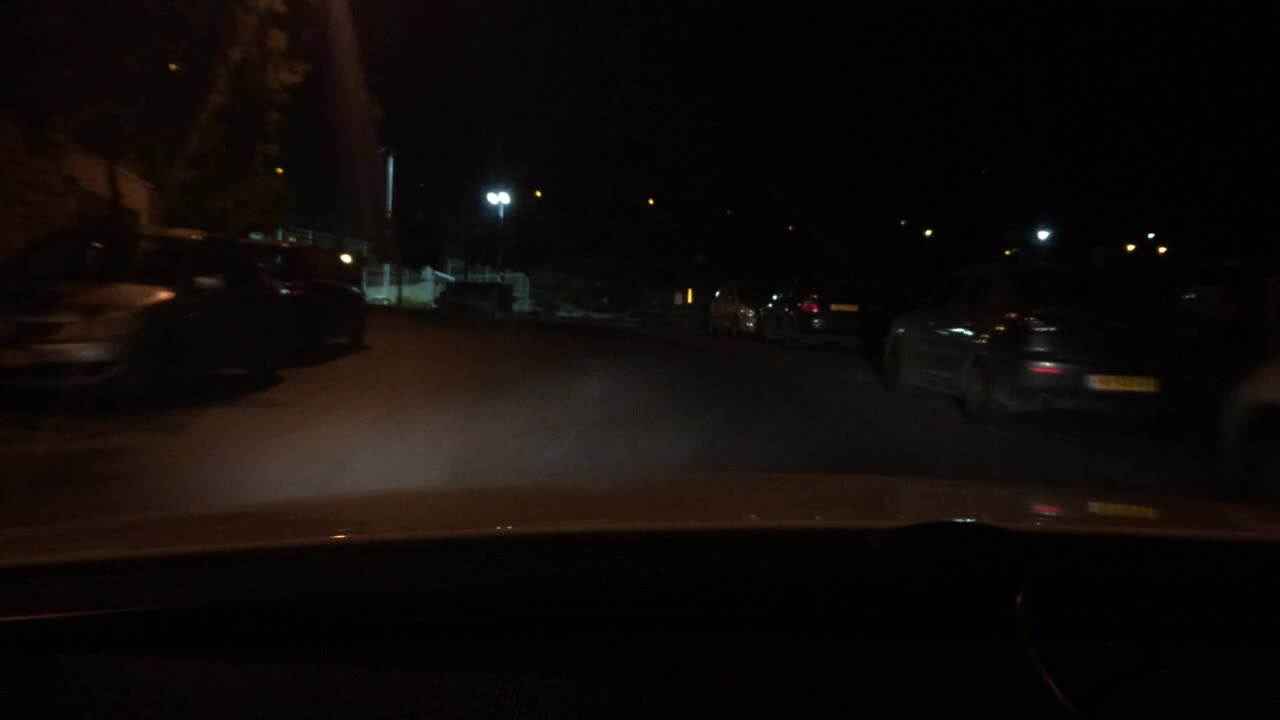car: (0, 228, 287, 402), (885, 275, 1202, 432), (1212, 359, 1279, 502), (761, 275, 882, 348), (289, 242, 369, 345), (231, 235, 300, 306), (709, 278, 782, 334), (432, 280, 516, 320), (574, 283, 625, 313), (511, 297, 544, 317), (553, 304, 584, 318)
traffic sign: (672, 290, 684, 306)
